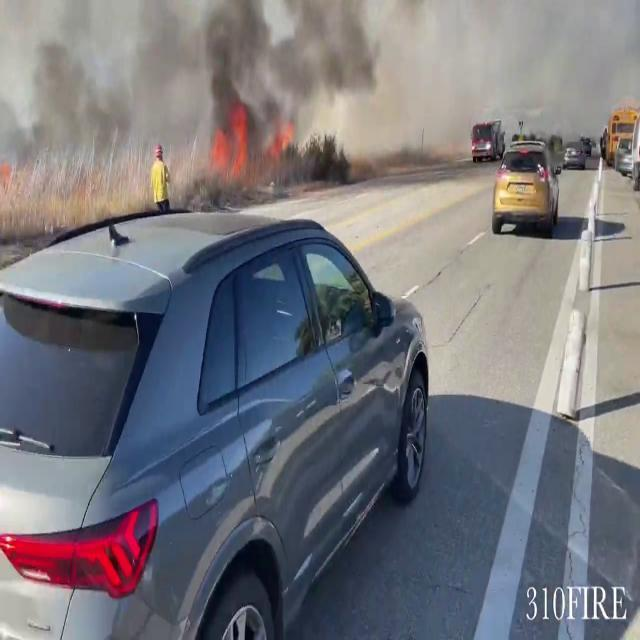Smoke: (0, 0, 622, 178)
